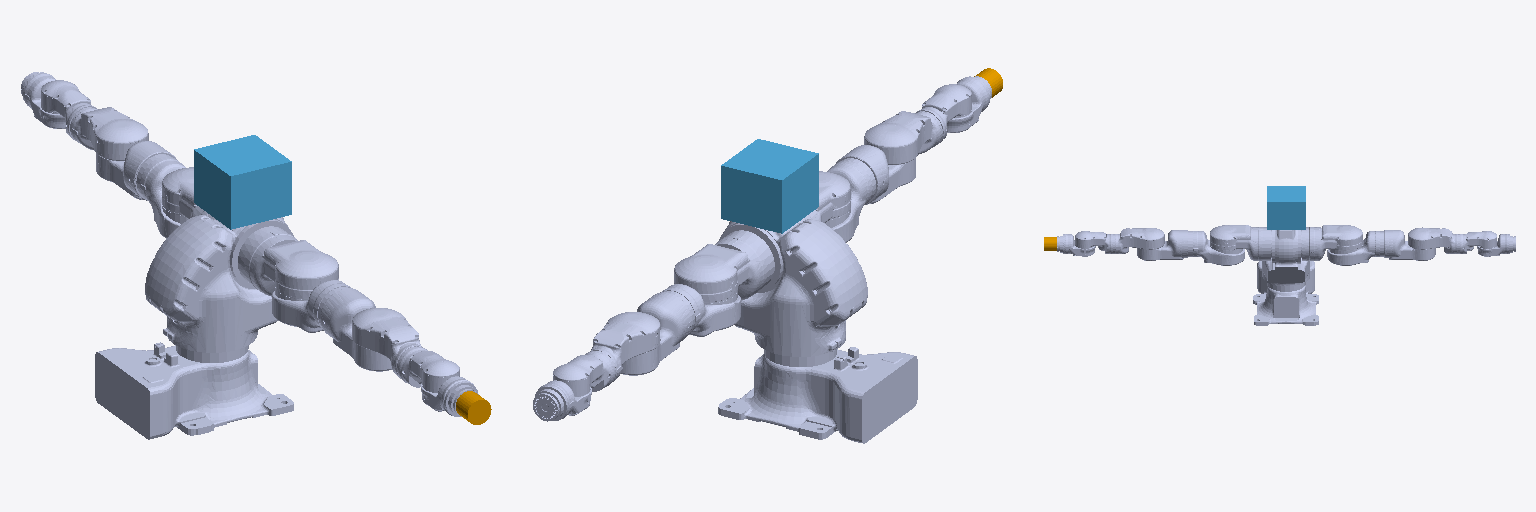
--- Render facts (derived) ---
The picture shows the robot from 3 angles, left to right: view 1: azimuth 30°, elevation 25°; view 2: azimuth 150°, elevation 25°; view 3: azimuth 270°, elevation 25°; orthographic projection.
Model sda20d_gripper_hole_kinect with 36 links and 35 joints (27 revolute, 8 fixed), rooted at base_link, posed all joints at 0.
Links seen in each view (by area): view 1: base_link, torso_link_b1, kinect_link, arm_right_link_1_s, arm_left_link_4_u, arm_right_link_4_u, arm_right_link_3_e, arm_right_link_2_l, arm_left_link_2_l, arm_right_link_5_r, arm_left_link_3_e, arm_left_link_1_s (+4 smaller); view 2: base_link, torso_link_b1, kinect_link, arm_left_link_1_s, arm_right_link_4_u, arm_left_link_3_e, arm_left_link_4_u, arm_left_link_2_l, arm_right_link_2_l, arm_left_link_5_r, arm_right_link_3_e, arm_right_link_1_s (+4 smaller); view 3: base_link, torso_link_b1, arm_right_link_1_s, arm_left_link_1_s, kinect_link, arm_right_link_2_l, arm_left_link_2_l, arm_right_link_4_u, arm_left_link_4_u, arm_left_link_3_e, arm_right_link_3_e, arm_right_link_5_r (+1 smaller).
Boxes of the visible links, x1,y1,x2,y2 form: base_link: (95,342,293,439); torso_link_b1: (145,215,288,352); kinect_link: (194,135,291,229); arm_right_link_1_s: (230,219,338,299); arm_left_link_4_u: (70,107,148,160); arm_right_link_4_u: (352,308,422,378); arm_right_link_3_e: (320,288,391,371); arm_right_link_2_l: (272,280,352,332); arm_left_link_2_l: (136,154,187,238); arm_right_link_5_r: (398,347,459,391); arm_left_link_3_e: (96,141,176,200); arm_left_link_1_s: (162,167,214,218); base_link: (718,347,917,443); torso_link_b1: (723,219,867,356); kinect_link: (721,139,818,233); arm_left_link_1_s: (674,223,782,303); arm_right_link_4_u: (864,111,942,164); arm_left_link_3_e: (621,292,692,375); arm_left_link_4_u: (590,312,660,381); arm_left_link_2_l: (660,284,740,336); arm_right_link_2_l: (825,158,875,242); arm_left_link_5_r: (553,351,614,395); arm_right_link_3_e: (836,145,915,204); arm_right_link_1_s: (798,171,850,222); base_link: (1253,261,1318,325); torso_link_b1: (1262,230,1309,285); arm_right_link_1_s: (1210,225,1274,262); arm_left_link_1_s: (1298,225,1362,263); kinect_link: (1267,186,1305,229); arm_right_link_2_l: (1188,231,1244,265); arm_left_link_2_l: (1327,231,1383,265); arm_right_link_4_u: (1113,228,1164,253); arm_left_link_4_u: (1408,227,1459,253); arm_left_link_3_e: (1384,230,1435,260); arm_right_link_3_e: (1137,230,1187,260); arm_right_link_5_r: (1075,231,1112,253).
Bounding box of the posed robot: 0.6384 × 3.03 × 0.8916 m (x, y, z).
Meshes: 14 distinct files referenced, 16 mesh visuals loaded (9 binary STL); not drawn: 13 (reference not matched to a file when rendering).

robot.urdf — sda20d_gripper_hole_kinect:
<?xml version="1.0" ?>
<!-- =================================================================================== -->
<!-- |    This document was autogenerated by xacro from sda20d_gripper_hole_kinect.xacro | -->
<!-- |    EDITING THIS FILE BY HAND IS NOT RECOMMENDED                                 | -->
<!-- =================================================================================== -->
<robot name="sda20d_gripper_hole_kinect" xmlns:xacro="http://ros.org/wiki/xacro">
  <!-- link list -->
  <link name="base_link">
    <inertial>
      <origin rpy="0 0 0" xyz="-0.11144 -4.9089E-05 0.10433"/>
      <mass value="28.727"/>
      <inertia ixx="0.3449" ixy="-0.00060471" ixz="-0.0072714" iyy="0.73969" iyz="5.6352E-05" izz="0.82224"/>
    </inertial>
    <visual>
      <origin rpy="0 0 0" xyz="0 0 0"/>
      <geometry>
        <mesh filename="package://motoman_sda20d_support/meshes/visual/base_link.STL"/>
      </geometry>
      <material name="">
        <color rgba="0.79216 0.81961 0.93333 1"/>
      </material>
    </visual>
    <collision>
      <origin rpy="0 0 0" xyz="0 0 0"/>
      <geometry>
        <mesh filename="package://motoman_sda20d_support/meshes/collision/base_link.STL"/>
      </geometry>
    </collision>
  </link>
  <link name="torso_link_b1">
    <inertial>
      <origin rpy="0 0 0" xyz="0.026706 1.1222E-05 0.19713"/>
      <mass value="36.439"/>
      <inertia ixx="0.62924" ixy="7.5604E-05" ixz="-0.065715" iyy="0.97273" iyz="7.3187E-05" izz="0.67513"/>
    </inertial>
    <visual>
      <origin rpy="0 0 0" xyz="0 0 0"/>
      <geometry>
        <mesh filename="package://motoman_sda20d_support/meshes/visual/link_b1.STL"/>
      </geometry>
      <material name="">
        <color rgba="0.79216 0.81961 0.93333 1"/>
      </material>
    </visual>
    <collision>
      <origin rpy="0 0 0" xyz="0 0 0"/>
      <geometry>
        <mesh filename="package://motoman_sda20d_support/meshes/collision/link_b1.STL"/>
      </geometry>
    </collision>
  </link>
  <!-- joint list -->
  <joint name="torso_joint_b1" type="revolute">
    <origin rpy="0 0 0" xyz="0 0 0.2516"/>
    <parent link="base_link"/>
    <child link="torso_link_b1"/>
    <axis xyz="0 0 1"/>
    <limit effort="0" lower="-1.5555423498153687" upper="1.5555423498153687" velocity="2.181816"/>
  </joint>
  <!-- end of joint list -->
  <!-- link list -->
  <link name="arm_left_link_1_s">
    <inertial>
      <origin rpy="0 0 0" xyz="5.2918E-06 0.021755 0.16826"/>
      <mass value="10.704"/>
      <inertia ixx="0.17312" ixy="-1.4296E-06" ixz="-8.891E-06" iyy="0.17545" iyz="-0.026584" izz="0.059382"/>
    </inertial>
    <visual>
      <origin rpy="0 0 0" xyz="0 0 0"/>
      <geometry>
        <mesh filename="package://motoman_sda20d_support/meshes/visual/link_1_s.STL"/>
      </geometry>
      <material name="">
        <color rgba="0.79216 0.81961 0.93333 1"/>
      </material>
    </visual>
    <collision>
      <origin rpy="0 0 0" xyz="0 0 0"/>
      <geometry>
        <mesh filename="package://motoman_sda20d_support/meshes/collision/link_1_s.STL"/>
      </geometry>
    </collision>
  </link>
  <link name="arm_left_link_2_l">
    <inertial>
      <origin rpy="0 0 0" xyz="0.069111 1.8074E-05 -0.039943"/>
      <mass value="8.031"/>
      <inertia ixx="0.03886" ixy="-1.2216E-05" ixz="-0.017517" iyy="0.094695" iyz="-5.0745E-06" izz="0.10194"/>
    </inertial>
    <visual>
      <origin rpy="0 0 0" xyz="0 0 0"/>
      <geometry>
        <mesh filename="package://motoman_sda20d_support/meshes/visual/link_2_l.STL"/>
      </geometry>
      <material name="">
        <color rgba="0.79216 0.81961 0.93333 1"/>
      </material>
    </visual>
    <collision>
      <origin rpy="0 0 0" xyz="0 0 0"/>
      <geometry>
        <mesh filename="package://motoman_sda20d_support/meshes/collision/link_2_l.STL"/>
      </geometry>
    </collision>
  </link>
  <link name="arm_left_link_3_e">
    <inertial>
      <origin rpy="0 0 0" xyz="2.3339E-06 -0.02415 0.13581"/>
      <mass value="6.0023"/>
      <inertia ixx="0.063894" ixy="-1.5274E-07" ixz="-3.0691E-08" iyy="0.062384" iyz="0.010637" izz="0.023266"/>
    </inertial>
    <visual>
      <origin rpy="0 0 0" xyz="0 0 0"/>
      <geometry>
        <mesh filename="package://motoman_sda20d_support/meshes/visual/link_3_e.STL"/>
      </geometry>
      <material name="">
        <color rgba="0.79216 0.81961 0.93333 1"/>
      </material>
    </visual>
    <collision>
      <origin rpy="0 0 0" xyz="0 0 0"/>
      <geometry>
        <mesh filename="package://motoman_sda20d_support/meshes/collision/link_3_e.STL"/>
      </geometry>
    </collision>
  </link>
  <link name="arm_left_link_4_u">
    <inertial>
      <origin rpy="0 0 0" xyz="0.076105 1.3438E-05 0.033833"/>
      <mass value="4.2991"/>
      <inertia ixx="0.01178" ixy="-1.1821E-05" ixz="0.0056112" iyy="0.042152" iyz="3.1996E-06" izz="0.043983"/>
    </inertial>
    <visual>
      <origin rpy="0 0 0" xyz="0 0 0"/>
      <geometry>
        <mesh filename="package://motoman_sda20d_support/meshes/visual/link_4_u.STL"/>
      </geometry>
      <material name="">
        <color rgba="0.79216 0.81961 0.93333 1"/>
      </material>
    </visual>
    <collision>
      <origin rpy="0 0 0" xyz="0 0 0"/>
      <geometry>
        <mesh filename="package://motoman_sda20d_support/meshes/collision/link_4_u.STL"/>
      </geometry>
    </collision>
  </link>
  <link name="arm_left_link_5_r">
    <inertial>
      <origin rpy="0 0 0" xyz="3.197E-06 0.024231 0.10713"/>
      <mass value="2.1798"/>
      <inertia ixx="0.012925" ixy="6.8017E-09" ixz="3.8025E-07" iyy="0.012754" iyz="-0.0021611" izz="0.0041053"/>
    </inertial>
    <visual>
      <origin rpy="0 0 0" xyz="0 0 0"/>
      <geometry>
        <mesh filename="package://motoman_sda20d_support/meshes/visual/link_5_r.STL"/>
      </geometry>
      <material name="">
        <color rgba="0.79216 0.81961 0.93333 1"/>
      </material>
    </visual>
    <collision>
      <origin rpy="0 0 0" xyz="0 0 0"/>
      <geometry>
        <mesh filename="package://motoman_sda20d_support/meshes/collision/link_5_r.STL"/>
      </geometry>
    </collision>
  </link>
  <link name="arm_left_link_6_b">
    <inertial>
      <origin rpy="0 0 0" xyz="0.063005 5.2352E-05 -0.0172"/>
      <mass value="2.2078"/>
      <inertia ixx="0.0045051" ixy="9.1066E-07" ixz="-0.0019934" iyy="0.010714" iyz="-6.1671E-07" izz="0.010934"/>
    </inertial>
    <visual>
      <origin rpy="0 0 0" xyz="0 0 0"/>
      <geometry>
        <mesh filename="package://motoman_sda20d_support/meshes/visual/link_6_b.STL"/>
      </geometry>
      <material name="">
        <color rgba="0.79216 0.81961 0.93333 1"/>
      </material>
    </visual>
    <collision>
      <origin rpy="0 0 0" xyz="0 0 0"/>
      <geometry>
        <mesh filename="package://motoman_sda20d_support/meshes/collision/link_6_b.STL"/>
      </geometry>
    </collision>
  </link>
  <link name="arm_left_link_7_t">
    <inertial>
      <origin rpy="0 0 0" xyz="-2.1465E-05 5.2992E-08 0.0078271"/>
      <mass value="0.10719"/>
      <inertia ixx="6.5327E-05" ixy="6.1499E-07" ixz="1.834E-08" iyy="6.5152E-05" iyz="-1.7925E-11" izz="0.0001262"/>
    </inertial>
    <visual>
      <origin rpy="0 0 0" xyz="0 0 0"/>
      <geometry>
        <mesh filename="package://motoman_sda20d_support/meshes/visual/link_7_t.STL"/>
      </geometry>
      <material name="">
        <color rgba="0.79216 0.81961 0.93333 1"/>
      </material>
    </visual>
    <collision>
      <origin rpy="0 0 0" xyz="0 0 0"/>
      <geometry>
        <mesh filename="package://motoman_sda20d_support/meshes/collision/link_7_t.STL"/>
      </geometry>
    </collision>
  </link>
  <link name="arm_left_link_tool0"/>
  <!-- joint list -->
  <joint name="arm_left_joint_1_s" type="revolute">
    <origin rpy="1.5708 0.0 3.1416" xyz="0.15 0.075 0.2984"/>
    <parent link="torso_link_b1"/>
    <child link="arm_left_link_1_s"/>
    <axis xyz="0 0 1"/>
    <limit effort="0" lower="-3.13" upper="3.13" velocity="0.151267548"/>
    <!-- velocity="0.9076052904129028" -->
  </joint>
  <joint name="arm_left_joint_2_l" type="revolute">
    <origin rpy="-1.5708 -1.5708 0" xyz="0 0 0.31"/>
    <parent link="arm_left_link_1_s"/>
    <child link="arm_left_link_2_l"/>
    <axis xyz="0 0 -1"/>
    <limit effort="0" lower="-1.90" upper="1.90" velocity="0.132802963"/>
    <!-- velocity="0.7968177795410156" -->
  </joint>
  <joint name="arm_left_joint_3_e" type="revolute">
    <origin rpy="1.5708 -5.0715E-16 1.5708" xyz="0.245 0 0"/>
    <parent link="arm_left_link_2_l"/>
    <child link="arm_left_link_3_e"/>
    <axis xyz="0 0 1"/>
    <limit effort="0" lower="-2.95" upper="2.95" velocity="0.173283021"/>
    <!-- velocity="1.0396981239318848" -->
  </joint>
  <joint name="arm_left_joint_4_u" type="revolute">
    <origin rpy="-1.5708 -1.5708 0" xyz="0 0 0.245"/>
    <parent link="arm_left_link_3_e"/>
    <child link="arm_left_link_4_u"/>
    <axis xyz="0 0 1"/>
    <limit effort="0" lower="-2.25" upper="2.25" velocity="0.198139191"/>
    <!-- velocity="1.1888351440429688" -->
  </joint>
  <joint name="arm_left_joint_5_r" type="revolute">
    <origin rpy="1.5708 -1.464E-17 1.5708" xyz="0.241 0 0"/>
    <parent link="arm_left_link_4_u"/>
    <child link="arm_left_link_5_r"/>
    <axis xyz="0 0 -1"/>
    <limit effort="0" lower="-3.13" upper="3.13" velocity="0.261991759"/>
    <!-- velocity="1.5719505548477173" -->
  </joint>
  <joint name="arm_left_joint_6_b" type="revolute">
    <origin rpy="1.8852 -1.5708 2.8272" xyz="0 0 0.179"/>
    <parent link="arm_left_link_5_r"/>
    <child link="arm_left_link_6_b"/>
    <axis xyz="0 0 1"/>
    <limit effort="0" lower="-1.90" upper="1.90" velocity="0.29046913"/>
    <!-- velocity="1.7428147792816162" -->
  </joint>
  <joint name="arm_left_joint_7_t" type="revolute">
    <origin rpy="1.5708 -1.0214E-15 1.5708" xyz="0.1642 0 0"/>
    <parent link="arm_left_link_6_b"/>
    <child link="arm_left_link_7_t"/>
    <axis xyz="0 0 -1"/>
    <limit effort="0" lower="-3.12" upper="3.12" velocity="0.340884606"/>
    <!-- velocity="2.0453076362609863" -->
  </joint>
  <joint name="arm_left_joint_tool0" type="fixed">
    <origin rpy="0 0 0" xyz="0 0 0.016"/>
    <parent link="arm_left_link_7_t"/>
    <child link="arm_left_link_tool0"/>
  </joint>
  <!-- end of joint list -->
  <!-- link list -->
  <link name="arm_right_link_1_s">
    <inertial>
      <origin rpy="0 0 0" xyz="5.2918E-06 0.021755 0.16826"/>
      <mass value="10.704"/>
      <inertia ixx="0.17312" ixy="-1.4296E-06" ixz="-8.891E-06" iyy="0.17545" iyz="-0.026584" izz="0.059382"/>
    </inertial>
    <visual>
      <origin rpy="0 0 0" xyz="0 0 0"/>
      <geometry>
        <mesh filename="package://motoman_sda20d_support/meshes/visual/link_1_s.STL"/>
      </geometry>
      <material name="">
        <color rgba="0.79216 0.81961 0.93333 1"/>
      </material>
    </visual>
    <collision>
      <origin rpy="0 0 0" xyz="0 0 0"/>
      <geometry>
        <mesh filename="package://motoman_sda20d_support/meshes/collision/link_1_s.STL"/>
      </geometry>
    </collision>
  </link>
  <link name="arm_right_link_2_l">
    <inertial>
      <origin rpy="0 0 0" xyz="0.069111 1.8074E-05 -0.039943"/>
      <mass value="8.031"/>
      <inertia ixx="0.03886" ixy="-1.2216E-05" ixz="-0.017517" iyy="0.094695" iyz="-5.0745E-06" izz="0.10194"/>
    </inertial>
    <visual>
      <origin rpy="0 0 0" xyz="0 0 0"/>
      <geometry>
        <mesh filename="package://motoman_sda20d_support/meshes/visual/link_2_l.STL"/>
      </geometry>
      <material name="">
        <color rgba="0.79216 0.81961 0.93333 1"/>
      </material>
    </visual>
    <collision>
      <origin rpy="0 0 0" xyz="0 0 0"/>
      <geometry>
        <mesh filename="package://motoman_sda20d_support/meshes/collision/link_2_l.STL"/>
      </geometry>
    </collision>
  </link>
  <link name="arm_right_link_3_e">
    <inertial>
      <origin rpy="0 0 0" xyz="2.3339E-06 -0.02415 0.13581"/>
      <mass value="6.0023"/>
      <inertia ixx="0.063894" ixy="-1.5274E-07" ixz="-3.0691E-08" iyy="0.062384" iyz="0.010637" izz="0.023266"/>
    </inertial>
    <visual>
      <origin rpy="0 0 0" xyz="0 0 0"/>
      <geometry>
        <mesh filename="package://motoman_sda20d_support/meshes/visual/link_3_e.STL"/>
      </geometry>
      <material name="">
        <color rgba="0.79216 0.81961 0.93333 1"/>
      </material>
    </visual>
    <collision>
      <origin rpy="0 0 0" xyz="0 0 0"/>
      <geometry>
        <mesh filename="package://motoman_sda20d_support/meshes/collision/link_3_e.STL"/>
      </geometry>
    </collision>
  </link>
  <link name="arm_right_link_4_u">
    <inertial>
      <origin rpy="0 0 0" xyz="0.076105 1.3438E-05 0.033833"/>
      <mass value="4.2991"/>
      <inertia ixx="0.01178" ixy="-1.1821E-05" ixz="0.0056112" iyy="0.042152" iyz="3.1996E-06" izz="0.043983"/>
    </inertial>
    <visual>
      <origin rpy="0 0 0" xyz="0 0 0"/>
      <geometry>
        <mesh filename="package://motoman_sda20d_support/meshes/visual/link_4_u.STL"/>
      </geometry>
      <material name="">
        <color rgba="0.79216 0.81961 0.93333 1"/>
      </material>
    </visual>
    <collision>
      <origin rpy="0 0 0" xyz="0 0 0"/>
      <geometry>
        <mesh filename="package://motoman_sda20d_support/meshes/collision/link_4_u.STL"/>
      </geometry>
    </collision>
  </link>
  <link name="arm_right_link_5_r">
    <inertial>
      <origin rpy="0 0 0" xyz="3.197E-06 0.024231 0.10713"/>
      <mass value="2.1798"/>
      <inertia ixx="0.012925" ixy="6.8017E-09" ixz="3.8025E-07" iyy="0.012754" iyz="-0.0021611" izz="0.0041053"/>
    </inertial>
    <visual>
      <origin rpy="0 0 0" xyz="0 0 0"/>
      <geometry>
        <mesh filename="package://motoman_sda20d_support/meshes/visual/link_5_r.STL"/>
      </geometry>
      <material name="">
        <color rgba="0.79216 0.81961 0.93333 1"/>
      </material>
    </visual>
    <collision>
      <origin rpy="0 0 0" xyz="0 0 0"/>
      <geometry>
        <mesh filename="package://motoman_sda20d_support/meshes/collision/link_5_r.STL"/>
      </geometry>
    </collision>
  </link>
  <link name="arm_right_link_6_b">
    <inertial>
      <origin rpy="0 0 0" xyz="0.063005 5.2352E-05 -0.0172"/>
      <mass value="2.2078"/>
      <inertia ixx="0.0045051" ixy="9.1066E-07" ixz="-0.0019934" iyy="0.010714" iyz="-6.1671E-07" izz="0.010934"/>
    </inertial>
    <visual>
      <origin rpy="0 0 0" xyz="0 0 0"/>
      <geometry>
        <mesh filename="package://motoman_sda20d_support/meshes/visual/link_6_b.STL"/>
      </geometry>
      <material name="">
        <color rgba="0.79216 0.81961 0.93333 1"/>
      </material>
    </visual>
    <collision>
      <origin rpy="0 0 0" xyz="0 0 0"/>
      <geometry>
        <mesh filename="package://motoman_sda20d_support/meshes/collision/link_6_b.STL"/>
      </geometry>
    </collision>
  </link>
  <link name="arm_right_link_7_t">
    <inertial>
      <origin rpy="0 0 0" xyz="-2.1465E-05 5.2992E-08 0.0078271"/>
      <mass value="0.10719"/>
      <inertia ixx="6.5327E-05" ixy="6.1499E-07" ixz="1.834E-08" iyy="6.5152E-05" iyz="-1.7925E-11" izz="0.0001262"/>
    </inertial>
    <visual>
      <origin rpy="0 0 0" xyz="0 0 0"/>
      <geometry>
        <mesh filename="package://motoman_sda20d_support/meshes/visual/link_7_t.STL"/>
      </geometry>
      <material name="">
        <color rgba="0.79216 0.81961 0.93333 1"/>
      </material>
    </visual>
    <collision>
      <origin rpy="0 0 0" xyz="0 0 0"/>
      <geometry>
        <mesh filename="package://motoman_sda20d_support/meshes/collision/link_7_t.STL"/>
      </geometry>
    </collision>
  </link>
  <link name="arm_right_link_tool0"/>
  <!-- joint list -->
  <joint name="arm_right_joint_1_s" type="revolute">
    <origin rpy="-1.5708 -3.1416 3.1416" xyz="0.15 -0.075 0.2984"/>
    <parent link="torso_link_b1"/>
    <child link="arm_right_link_1_s"/>
    <axis xyz="0 0 -1"/>
    <limit effort="0" lower="-3.13" upper="3.13" velocity="0.151267548"/>
    <!-- velocity="0.9076052904129028" -->
  </joint>
  <joint name="arm_right_joint_2_l" type="revolute">
    <origin rpy="-1.5708 -1.5708 0" xyz="0 0 0.31"/>
    <parent link="arm_right_link_1_s"/>
    <child link="arm_right_link_2_l"/>
    <axis xyz="0 0 1"/>
    <limit effort="0" lower="-1.90" upper="1.90" velocity="0.132802963"/>
    <!-- velocity="0.7968177795410156" -->
  </joint>
  <joint name="arm_right_joint_3_e" type="revolute">
    <origin rpy="1.5708 -5.0715E-16 1.5708" xyz="0.245 0 0"/>
    <parent link="arm_right_link_2_l"/>
    <child link="arm_right_link_3_e"/>
    <axis xyz="0 0 -1"/>
    <limit effort="0" lower="-2.95" upper="2.95" velocity="0.173283021"/>
    <!-- velocity="1.0396981239318848" -->
  </joint>
  <joint name="arm_right_joint_4_u" type="revolute">
    <origin rpy="-1.5708 -1.5708 0" xyz="0 0 0.245"/>
    <parent link="arm_right_link_3_e"/>
    <child link="arm_right_link_4_u"/>
    <axis xyz="0 0 -1"/>
    <limit effort="0" lower="-2.25" upper="2.25" velocity="0.198139191"/>
    <!-- velocity="1.1888351440429688" -->
  </joint>
  <joint name="arm_right_joint_5_r" type="revolute">
    <origin rpy="1.5708 -1.464E-17 1.5708" xyz="0.241 0 0"/>
    <parent link="arm_right_link_4_u"/>
    <child link="arm_right_link_5_r"/>
    <axis xyz="0 0 1"/>
    <limit effort="0" lower="-3.13" upper="3.13" velocity="0.261991759"/>
    <!-- velocity="1.5719505548477173" -->
  </joint>
  <joint name="arm_right_joint_6_b" type="revolute">
    <origin rpy="1.8852 -1.5708 2.8272" xyz="0 0 0.179"/>
    <parent link="arm_right_link_5_r"/>
    <child link="arm_right_link_6_b"/>
    <axis xyz="0 0 -1"/>
    <limit effort="0" lower="-1.90" upper="1.90" velocity="0.29046913"/>
    <!-- velocity="1.7428147792816162" -->
  </joint>
  <joint name="arm_right_joint_7_t" type="revolute">
    <origin rpy="1.5708 -1.0214E-15 1.5708" xyz="0.1642 0 0"/>
    <parent link="arm_right_link_6_b"/>
    <child link="arm_right_link_7_t"/>
    <axis xyz="0 0 1"/>
    <limit effort="0" lower="-3.12" upper="3.12" velocity="0.340884606"/>
    <!-- velocity="2.0453076362609863" -->
  </joint>
  <joint name="arm_right_joint_tool0" type="fixed">
    <origin rpy="0 0 0" xyz="0 0 0.016"/>
    <parent link="arm_right_link_7_t"/>
    <child link="arm_right_link_tool0"/>
  </joint>
  <!-- end of joint list -->
  <!-- The following xacro is kept for backwards compatibility, it should not be used -->
  <!-- see: https://github.com/ros-industrial/motoman/issues/166 -->
  <link name="left_gripper_base_link">
    <visual>
      <origin rpy="0 0 0" xyz="0 0 0"/>
      <geometry>
        <mesh filename="package://robotiq_gripper_3_finger_adaptive_support/meshes/gripper_base_link.STL"/>
      </geometry>
      <material name="">
        <color rgba="0.10196 0.10196 0.10196 1"/>
      </material>
    </visual>
    <collision>
      <origin rpy="0 0 0" xyz="0 0 0"/>
      <geometry>
        <mesh filename="package://robotiq_gripper_3_finger_adaptive_support/meshes/gripper_base_link.STL"/>
      </geometry>
    </collision>
  </link>
  <link name="left_gripper_finger_link_a_1">
    <visual>
      <origin rpy="0 0 0" xyz="0 0 0"/>
      <geometry>
        <mesh filename="package://robotiq_gripper_3_finger_adaptive_support/meshes/gripper_finger_link_1.STL"/>
      </geometry>
      <material name="">
        <color rgba="0.10196 0.10196 0.10196 1"/>
      </material>
    </visual>
    <collision>
      <origin rpy="0 0 0" xyz="0 0 0"/>
      <geometry>
        <mesh filename="package://robotiq_gripper_3_finger_adaptive_support/meshes/gripper_finger_link_1.STL"/>
      </geometry>
    </collision>
  </link>
  <joint name="left_gripper_finger_joint_a_1" type="revolute">
    <origin rpy="1.57079632679 0.0079495 -3.0107" xyz="0.044008 -0.054539 0.13897"/>
    <parent link="left_gripper_base_link"/>
    <child link="left_gripper_finger_link_a_1"/>
    <axis xyz="0 0 -1"/>
    <limit effort="1000" lower="-0.1755" upper="0.1744" velocity="0.1744"/>
  </joint>
  <link name="left_gripper_finger_link_a_2">
    <visual>
      <origin rpy="0 0 0" xyz="0 0 0"/>
      <geometry>
        <mesh filename="package://robotiq_gripper_3_finger_adaptive_support/meshes/gripper_finger_link_2.STL"/>
      </geometry>
      <material name="">
        <color rgba="0.10196 0.10196 0.10196 1"/>
      </material>
    </visual>
    <collision>
      <origin rpy="0 0 0" xyz="0 0 0"/>
      <geometry>
        <mesh filename="package://robotiq_gripper_3_finger_adaptive_support/meshes/gripper_finger_link_2.STL"/>
      </geometry>
    </collision>
  </link>
  <joint name="left_gripper_finger_joint_a_2" type="revolute">
    <origin rpy="3.14159265359 -1.57079632679 3.14159265359" xyz="0.011219 0.021604 0.014288"/>
    <parent link="left_gripper_finger_link_a_1"/>
    <child link="left_gripper_finger_link_a_2"/>
    <axis xyz="0 0 -1"/>
    <limit effort="1000" lower="0" upper="1.4801" velocity="1.4801"/>
  </joint>
  <link name="left_gripper_finger_link_a_3">
    <visual>
      <origin rpy="0 0 0" xyz="0 0 0"/>
      <geometry>
        <mesh filename="package://robotiq_gripper_3_finger_adaptive_support/meshes/gripper_finger_link_3.STL"/>
      </geometry>
      <material name="">
        <color rgba="0.10196 0.10196 0.10196 1"/>
      </material>
    </visual>
    <collision>
      <origin rpy="0 0 0" xyz="0 0 0"/>
      <geometry>
        <mesh filename="package://robotiq_gripper_3_finger_adaptive_support/meshes/gripper_finger_link_3.STL"/>
      </geometry>
    </collision>
  </link>
  <joint name="left_gripper_finger_joint_a_3" type="revolute">
    <origin rpy="0 0 -0.05236" xyz="-0.03278 0.046815 -0.0007872"/>
    <parent link="left_gripper_finger_link_a_2"/>
    <child link="left_gripper_finger_link_a_3"/>
    <axis xyz="0 0 -1"/>
    <limit effort="1000" lower="0" upper="1.2322" velocity="1.2322"/>
  </joint>
  <link name="left_gripper_finger_link_a_4">
    <visual>
      <origin rpy="0 0 0" xyz="0 0 0"/>
      <geometry>
        <mesh filename="package://robotiq_gripper_3_finger_adaptive_support/meshes/gripper_finger_link_4.STL"/>
      </geometry>
      <material name="">
        <color rgba="0.10196 0.10196 0.10196 1"/>
      </material>
    </visual>
    <collision>
      <origin rpy="0 0 0" xyz="0 0 0"/>
      <geometry>
        <mesh filename="package://robotiq_gripper_3_finger_adaptive_support/meshes/gripper_finger_link_4.STL"/>
      </geometry>
    </collision>
  </link>
  <joint name="left_gripper_finger_joint_a_4" type="revolute">
    <origin rpy="0 0 0.05236" xyz="-0.021853 0.03121 1.28E-05"/>
    <parent link="left_gripper_finger_link_a_3"/>
    <child link="left_gripper_finger_link_a_4"/>
    <axis xyz="0 0 -1"/>
    <limit effort="1000" lower="-1.27" upper="0.6757" velocity="0.6757"/>
  </joint>
  <link name="left_gripper_finger_link_b_1">
    <visual>
      <origin rpy="0 0 0" xyz="0 0 0"/>
      <geometry>
        <mesh filename="package://robotiq_gripper_3_finger_adaptive_support/meshes/gripper_finger_link_1.STL"/>
      </geometry>
      <material name="">
        <color rgba="0.10196 0.10196 0.10196 1"/>
      </material>
    </visual>
    <collision>
      <origin rpy="0 0 0" xyz="0 0 0"/>
      <geometry>
        <mesh filename="package://robotiq_gripper_3_finger_adaptive_support/meshes/gripper_finger_link_1.STL"/>
      </geometry>
    </collision>
  </link>
  <joint name="left_gripper_finger_joint_b_1" type="revolute">
    <origin rpy="1.57079632679 0.0079495 -3.0107" xyz="-0.028392 -0.064071 0.13897"/>
    <parent link="left_gripper_base_link"/>
    <child link="left_gripper_finger_link_b_1"/>
    <axis xyz="0 0 -1"/>
    <limit effort="1000" lower="-0.1755" upper="0.1744" velocity="0.1744"/>
  </joint>
  <link name="left_gripper_finger_link_b_2">
    <visual>
      <origin rpy="0 0 0" xyz="0 0 0"/>
      <geometry>
        <mesh filename="package://robotiq_gripper_3_finger_adaptive_support/meshes/gripper_finger_link_2.STL"/>
      </geometry>
      <material name="">
        <color rgba="0.10196 0.10196 0.10196 1"/>
      </material>
    </visual>
    <collision>
      <origin rpy="0 0 0" xyz="0 0 0"/>
      <geometry>
        <mesh filename="package://robotiq_gripper_3_finger_adaptive_support/meshes/gripper_finger_link_2.STL"/>
      </geometry>
    </collision>
  </link>
  <joint name="left_gripper_finger_joint_b_2" type="revolute">
    <origin rpy="3.14159265359 -1.57079632679 3.14159265359" xyz="0.011219 0.021604 0.014288"/>
    <parent link="left_gripper_finger_link_b_1"/>
    <child link="left_gripper_finger_link_b_2"/>
    <axis xyz="0 0 -1"/>
    <limit effort="1000" lower="0" upper="1.4801" velocity="1.4801"/>
  </joint>
  <link name="left_gripper_finger_link_b_3">
    <visual>
      <origin rpy="0 0 0" xyz="0 0 0"/>
      <geometry>
        <mesh filename="package://robotiq_gripper_3_finger_adaptive_support/meshes/gripper_finger_link_3.STL"/>
      </geometry>
      <material name="">
        <color rgba="0.10196 0.10196 0.10196 1"/>
      </material>
    </visual>
    <collision>
      <origin rpy="0 0 0" xyz="0 0 0"/>
      <geometry>
        <mesh filename="package://robotiq_gripper_3_finger_adaptive_support/meshes/gripper_finger_link_3.STL"/>
      </geometry>
    </collision>
  </link>
  <joint name="left_gripper_finger_joint_b_3" type="revolute">
    <origin rpy="0 0 -0.05236" xyz="-0.03278 0.046815 -0.0007872"/>
    <parent link="left_gripper_finger_link_b_2"/>
    <child link="left_gripper_finger_link_b_3"/>
    <axis xyz="0 0 -1"/>
    <limit effort="1000" lower="0" upper="1.2322" velocity="1.2322"/>
  </joint>
  <link name="left_gripper_finger_link_b_4">
    <visual>
      <origin rpy="0 0 0" xyz="0 0 0"/>
      <geometry>
        <mesh filename="package://robotiq_gripper_3_finger_adaptive_support/meshes/gripper_finger_link_4.STL"/>
      </geometry>
      <material name="">
        <color rgba="0.10196 0.10196 0.10196 1"/>
      </material>
    </visual>
    <collision>
      <origin rpy="0 0 0" xyz="0 0 0"/>
      <geometry>
        <mesh filename="package://robotiq_gripper_3_finger_adaptive_support/meshes/gripper_finger_link_4.STL"/>
      </geometry>
    </collision>
  </link>
  <joint name="left_gripper_finger_joint_b_4" type="revolute">
    <origin rpy="0 0 0.05236" xyz="-0.021853 0.03121 1.28E-05"/>
    <parent link="left_gripper_finger_link_b_3"/>
    <child link="left_gripper_finger_link_b_4"/>
    <axis xyz="0 0 -1"/>
    <limit effort="1000" lower="-1.27" upper="0.6757" velocity="0.6757"/>
  </joint>
  <link name="left_gripper_finger_link_c_1">
    <visual>
      <origin rpy="0 0 0" xyz="0 0 0"/>
      <geometry>
        <mesh filename="package://robotiq_gripper_3_finger_adaptive_support/meshes/gripper_finger_link_1.STL"/>
      </geometry>
      <material name="">
        <color rgba="0.10196 0.10196 0.10196 1"/>
      </material>
    </visual>
    <collision>
      <origin rpy="0 0 0" xyz="0 0 0"/>
      <geometry>
        <mesh filename="package://robotiq_gripper_3_finger_adaptive_support/meshes/gripper_finger_link_1.STL"/>
      </geometry>
    </collision>
  </link>
  <joint name="left_gripper_finger_joint_c_1" type="revolute">
    <origin rpy="1.57079632679 0.0079495 0.1309" xyz="-0.007695 0.058449 0.13897"/>
    <parent link="left_gripper_base_link"/>
    <child link="left_gripper_finger_link_c_1"/>
    <axis xyz="0 0 -1"/>
    <limit effort="1000" lower="-0.1755" upper="0.1744" velocity="0.1744"/>
  </joint>
  <link name="left_gripper_finger_link_c_2">
    <visual>
      <origin rpy="0 0 0" xyz="0 0 0"/>
      <geometry>
        <mesh filename="package://robotiq_gripper_3_finger_adaptive_support/meshes/gripper_finger_link_2.STL"/>
      </geometry>
      <material name="">
        <color rgba="0.10196 0.10196 0.10196 1"/>
      </material>
    </visual>
    <collision>
      <origin rpy="0 0 0" xyz="0 0 0"/>
      <geometry>
        <mesh filename="package://robotiq_gripper_3_finger_adaptive_support/meshes/gripper_finger_link_2.STL"/>
      </geometry>
    </collision>
  </link>
  <joint name="left_gripper_finger_joint_c_2" type="revolute">
    <origin rpy="3.14159265359 -1.57079632679 3.14159265359" xyz="0.011219 0.021604 0.014288"/>
    <parent link="left_gripper_finger_link_c_1"/>
    <child link="left_gripper_finger_link_c_2"/>
    <axis xyz="0 0 -1"/>
    <limit effort="1000" lower="0" upper="1.4801" velocity="1.4801"/>
  </joint>
  <link name="left_gripper_finger_link_c_3">
    <visual>
      <origin rpy="0 0 0" xyz="0 0 0"/>
      <geometry>
        <mesh filename="package://robotiq_gripper_3_finger_adaptive_support/meshes/gripper_finger_link_3.STL"/>
      </geometry>
      <material name="">
        <color rgba="0.10196 0.10196 0.10196 1"/>
      </material>
    </visual>
    <collision>
      <origin rpy="0 0 0" xyz="0 0 0"/>
      <geometry>
        <mesh filename="package://robotiq_gripper_3_finger_adaptive_support/meshes/gripper_finger_link_3.STL"/>
      </geometry>
    </collision>
  </link>
  <joint name="left_gripper_finger_joint_c_3" type="revolute">
    <origin rpy="0 0 -0.05236" xyz="-0.03278 0.046815 -0.0007872"/>
    <parent link="left_gripper_finger_link_c_2"/>
    <child link="left_gripper_finger_link_c_3"/>
    <axis xyz="0 0 -1"/>
    <limit effort="1000" lower="0" upper="1.2322" velocity="1.2322"/>
  </joint>
  <link name="left_gripper_finger_link_c_4">
    <visual>
      <origin rpy="0 0 0" xyz="0 0 0"/>
      <geometry>
        <mesh filename="package://robotiq_gripper_3_finger_adaptive_support/meshes/gripper_finger_link_4.STL"/>
      </geometry>
      <material name="">
        <color rgba="0.10196 0.10196 0.10196 1"/>
      </material>
    </visual>
    <collision>
      <origin rpy="0 0 0" xyz="0 0 0"/>
      <geometry>
        <mesh filename="package://robotiq_gripper_3_finger_adaptive_support/meshes/gripper_finger_link_4.STL"/>
      </geometry>
    </collision>
  </link>
  <joint name="left_gripper_finger_joint_c_4" type="revolute">
    <origin rpy="0 0 0.05236" xyz="-0.021853 0.03121 1.28E-05"/>
    <parent link="left_gripper_finger_link_c_3"/>
    <child link="left_gripper_finger_link_c_4"/>
    <axis xyz="0 0 -1"/>
    <limit effort="1000" lower="-1.27" upper="0.6757" velocity="0.6757"/>
  </joint>
  <joint name="arm_left_to_gripper" type="fixed">
    <origin rpy="0 0 1.57079632679" xyz="0 0 0.0"/>
    <parent link="arm_left_link_tool0"/>
    <child link="left_gripper_base_link"/>
  </joint>
  <link name="left_link_tool1"/>
  <joint name="left_joint_tool1" type="fixed">
    <origin rpy="0 0 0" xyz="0 0 0.16"/>
    <parent link="left_gripper_base_link"/>
    <child link="left_link_tool1"/>
  </joint>
  <material name="plate">
    <color rgba="0.8 0.8 1"/>
  </material>
  <link name="hole_link">
    <visual>
      <geometry>
        <cylinder length="0.082" radius="0.047"/>
      </geometry>
      <material name="plate"/>
    </visual>
  </link>
  <joint name="hole_joint" type="fixed">
    <origin rpy="3.1416 0 0" xyz="0 0 0.04"/>
    <parent link="arm_right_link_tool0"/>
    <child link="hole_link"/>
  </joint>
  <material name="black">
    <color rgba="0 0 0"/>
  </material>
  <link name="kinect_link">
    <visual>
      <geometry>
        <box size="0.24 0.25 0.2"/>
      </geometry>
      <material name="black"/>
    </visual>
  </link>
  <joint name="kinect_joint" type="fixed">
    <origin rpy="0 0 0" xyz="0.12 0 0.54"/>
    <parent link="torso_link_b1"/>
    <child link="kinect_link"/>
  </joint>
  <link name="kinect_rgb_optical_frame">
  </link>
  <joint name="kinect_rgb_optical_frame_joint" type="fixed">
    <origin rpy="0 0 0" xyz="0.12 0 0.54"/>
    <parent link="torso_link_b1"/>
    <child link="kinect_rgb_optical_frame"/>
  </joint>
  <link name="kinect_ir_optical_frame">
  </link>
  <joint name="kinect_ir_optical_frame_joint" type="fixed">
    <origin rpy="0 0 0" xyz="0.12 0 0.54"/>
    <parent link="torso_link_b1"/>
    <child link="kinect_ir_optical_frame"/>
  </joint>
</robot>
<!-- [local-path]/cidesi_ws/src/motoman/motoman_sda20d_with_gripper_hole_kinect_support/urdf/model.urdf -->
